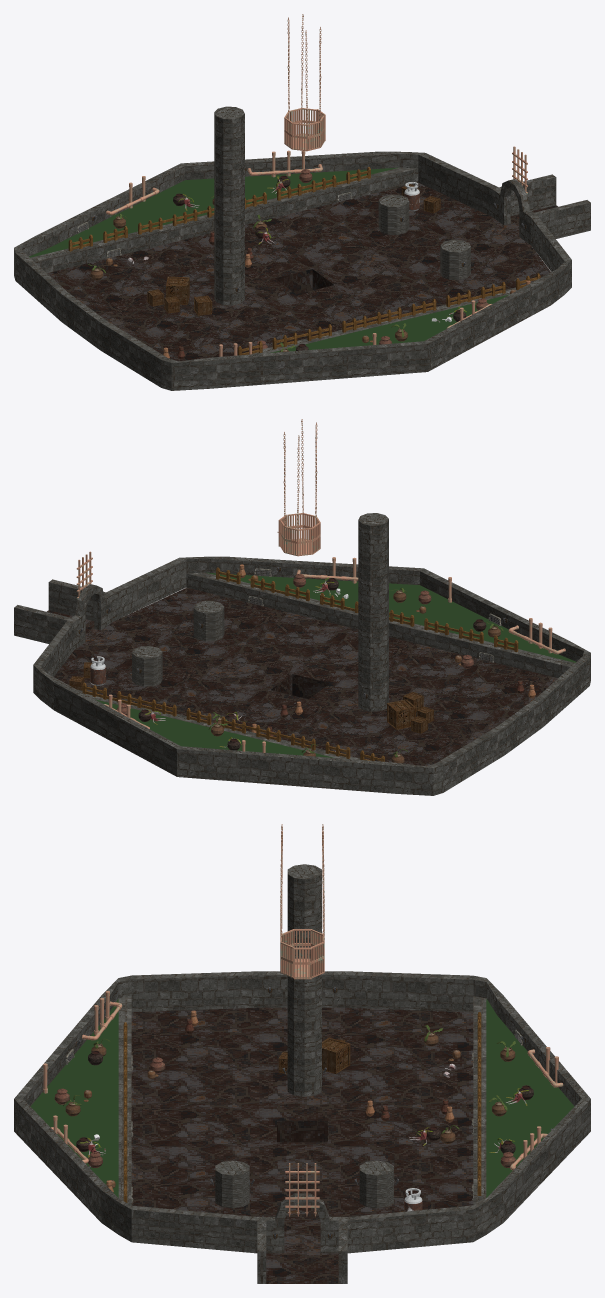
File: room_start_placeholder.glb
3 renders of one model, top to bottom at view 1: azimuth 30°, elevation 25°; view 2: azimuth 150°, elevation 25°; view 3: azimuth 270°, elevation 25°, orthographic. The views are drawn at different scales.
Parts seen in each view (by area): view 1: Plane.001, floor, Cylinder.042, Elevator, Cube.002, Cube, Cylinder.001, Cylinder.002; view 2: Plane.001, floor, Cylinder.042, Elevator, Cube, Cube.002, Cylinder.002, Cylinder.001; view 3: floor, Plane.001, Cylinder.042, Elevator, Cylinder.001, Cylinder.002, Cube, Cube.002, gate.003.
Boxes of the visible parts, x1,y1,x2,y2 form: Plane.001: [14, 151, 590, 390]; floor: [47, 182, 557, 361]; Cylinder.042: [214, 106, 244, 305]; Elevator: [284, 14, 324, 151]; Cube.002: [238, 273, 540, 355]; Cube: [68, 167, 370, 251]; Cylinder.001: [378, 194, 409, 234]; Cylinder.002: [440, 239, 470, 280]; Plane.001: [14, 556, 590, 795]; floor: [47, 587, 557, 766]; Cylinder.042: [358, 513, 388, 711]; Elevator: [280, 419, 320, 556]; Cube: [82, 682, 384, 761]; Cube.002: [216, 567, 518, 652]; Cylinder.002: [193, 601, 224, 641]; Cylinder.001: [132, 646, 162, 686]; floor: [131, 1007, 473, 1283]; Plane.001: [14, 971, 590, 1283]; Cylinder.042: [287, 864, 321, 1096]; Elevator: [280, 824, 324, 978]; Cylinder.001: [359, 1160, 393, 1208]; Cylinder.002: [215, 1160, 249, 1208]; Cube: [477, 1012, 481, 1195]; Cube.002: [123, 1022, 127, 1202]; gate.003: [285, 1163, 319, 1216].
Bounding box in the file's own units: 36.74 × 24.31 × 32.
Materials: 20 (20 with a texture image).
